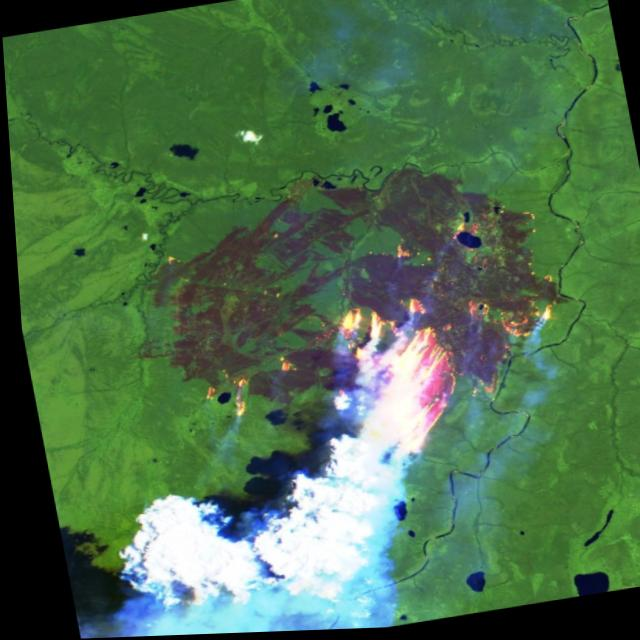fire: (152, 189, 591, 496)
